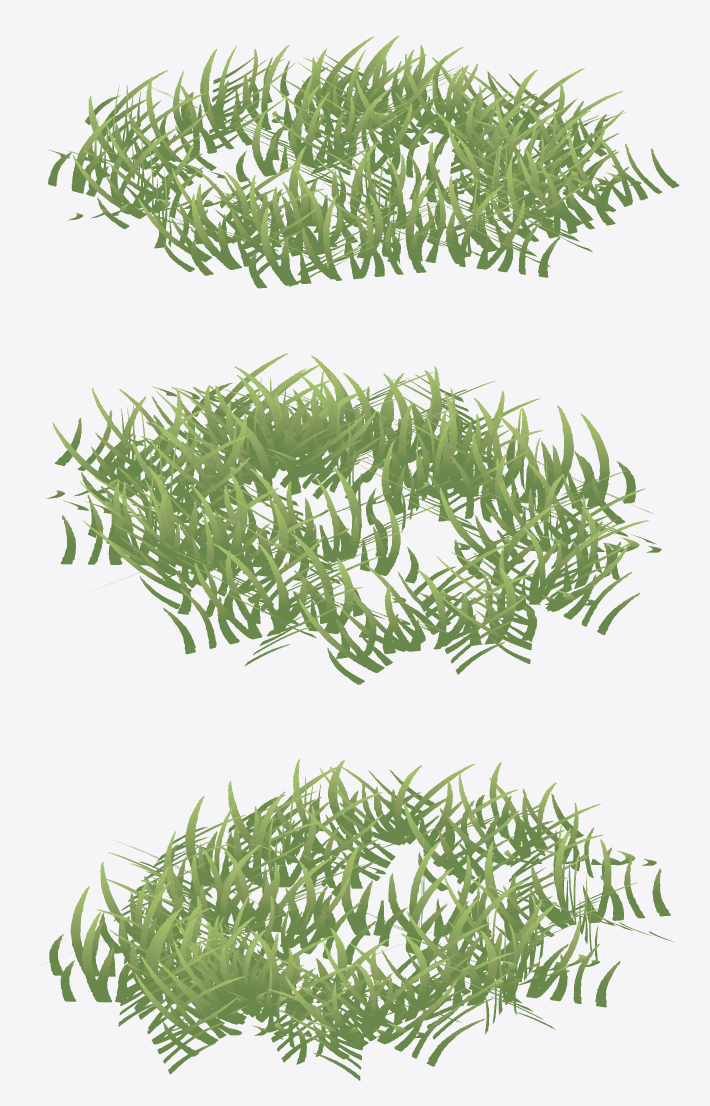
The model's file is V_Grass1.fbx.
3 views of the same model, one above another, from view 1: azimuth 30°, elevation 25°; view 2: azimuth 150°, elevation 25°; view 3: azimuth 270°, elevation 25° (orthographic). The views are drawn at different scales.
Parts seen in each view (by area): view 1: TW101_grass05; view 2: TW101_grass05; view 3: TW101_grass05.
Part boxes in pixels (x1,y1,x2,y2): TW101_grass05: [48, 35, 679, 288]; TW101_grass05: [46, 353, 661, 684]; TW101_grass05: [45, 759, 673, 1080].
Bounding box in the file's own units: 1.51 × 0.1852 × 1.4.
